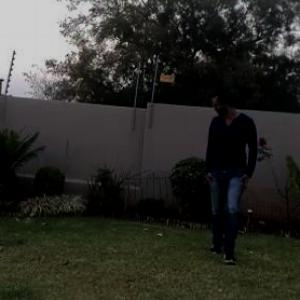follow: (201, 75, 259, 266)
